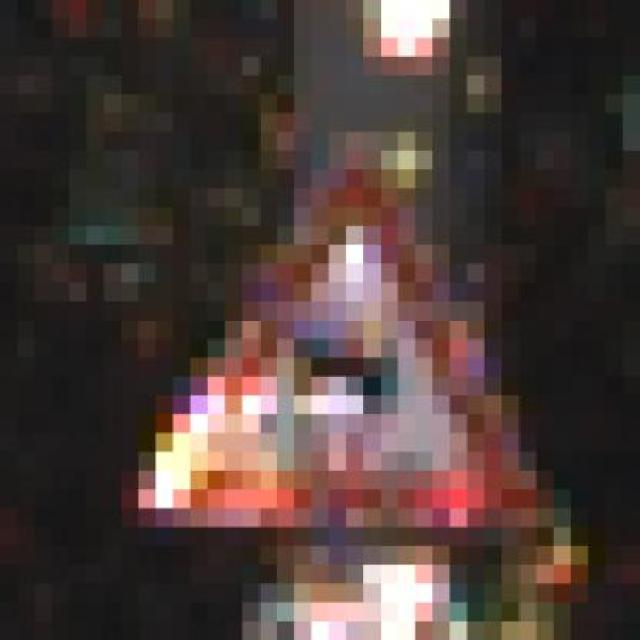Slippery Road Ahead: (121, 132, 536, 546)
